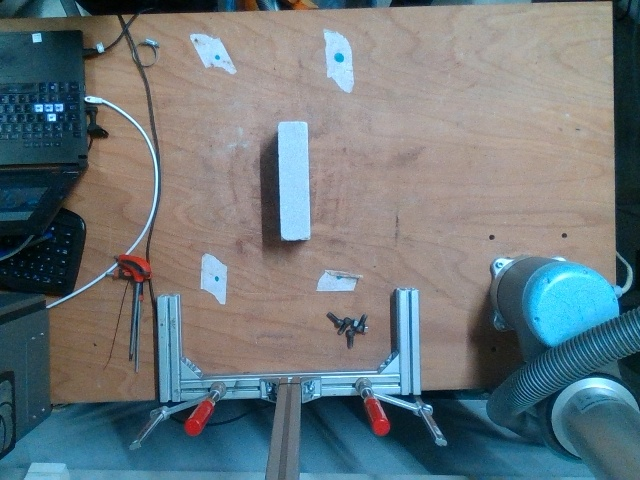brick-side: (277, 121, 309, 237)
